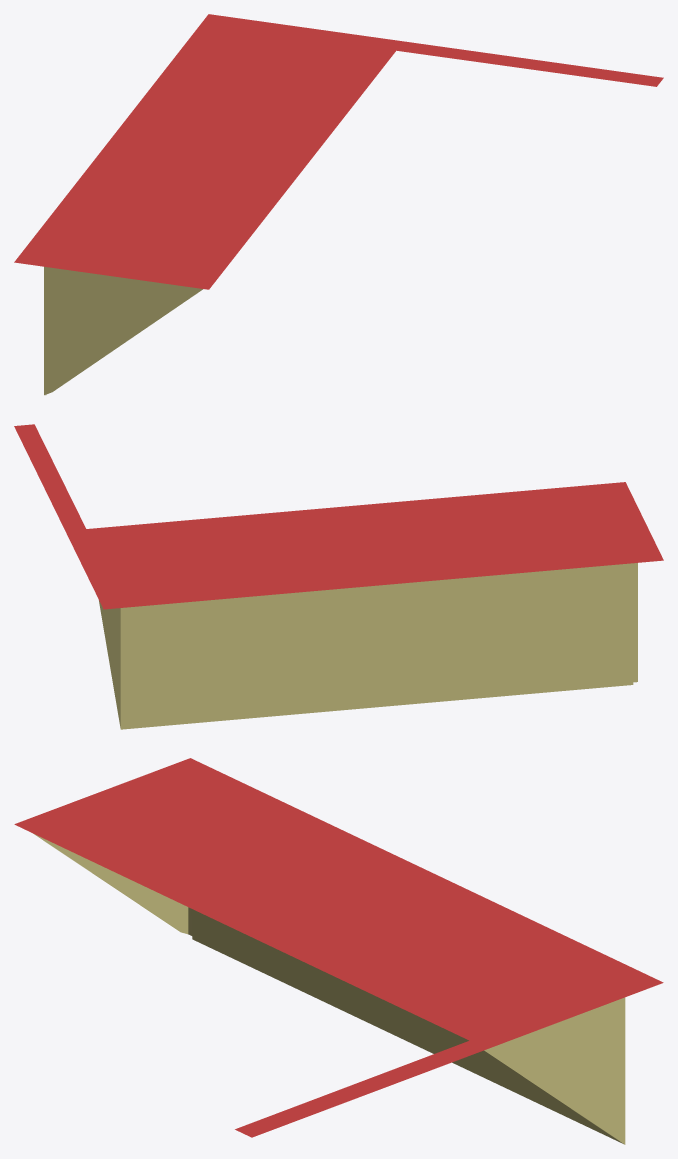
The picture shows the model from 3 angles, top to bottom: view 1: azimuth 30°, elevation 25°; view 2: azimuth 150°, elevation 25°; view 3: azimuth 270°, elevation 25°; orthographic projection. The views are drawn at different scales.
Size of the model in its own units: 8.23 by 5.95 by 1.65.
